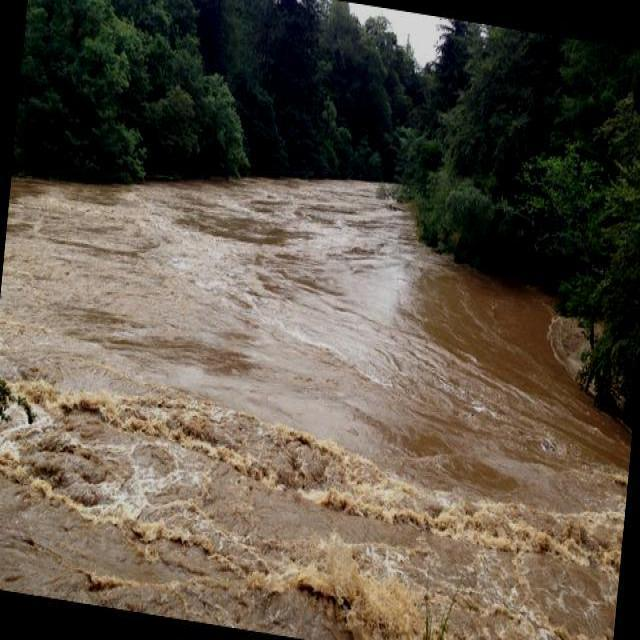flood: (0, 113, 639, 639)
